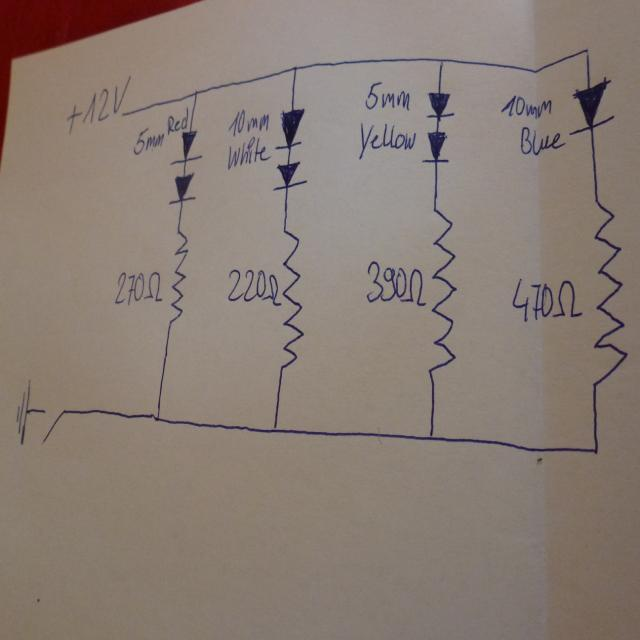diode: (567, 77, 617, 135), (273, 105, 306, 151), (272, 155, 310, 190), (168, 129, 203, 166), (167, 170, 196, 206), (420, 129, 449, 163), (425, 88, 455, 120)
ground: (13, 376, 32, 446)
junction: (424, 428, 437, 444), (589, 442, 601, 459), (268, 421, 281, 436), (149, 412, 162, 422), (582, 44, 591, 57), (436, 54, 445, 66), (291, 62, 299, 74), (192, 86, 200, 97)
resistor: (589, 200, 631, 390), (425, 205, 458, 374), (278, 229, 304, 381), (169, 225, 190, 325)
switch: (39, 404, 70, 444)
terminal: (118, 110, 125, 120)
text: (64, 73, 132, 135), (508, 274, 580, 323), (363, 257, 427, 309), (356, 118, 416, 160), (226, 266, 282, 307), (112, 270, 163, 308), (364, 79, 411, 114), (519, 124, 566, 156), (227, 134, 271, 168), (500, 93, 552, 120), (227, 106, 270, 138), (131, 124, 165, 157), (166, 105, 189, 136)
